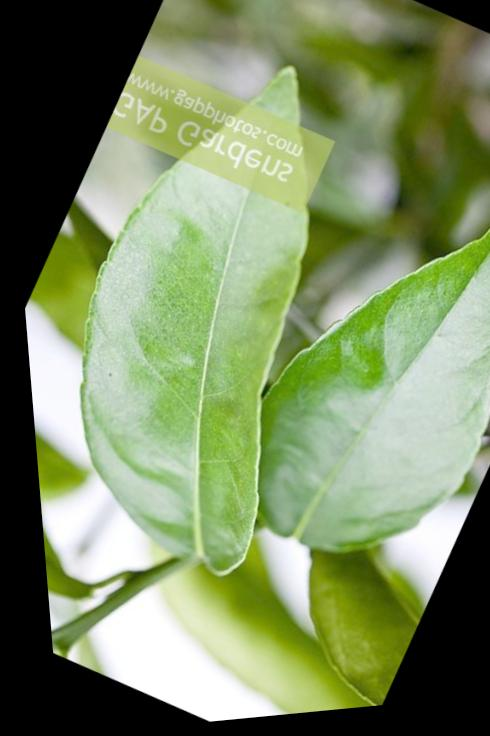Healthy Citrus: (11, 138, 380, 590), (208, 177, 490, 592)
